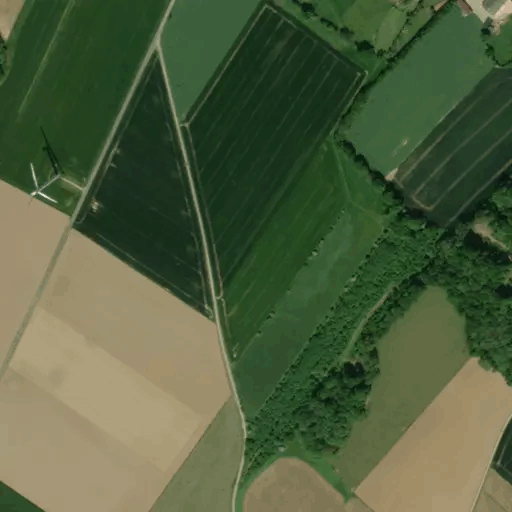wt: (17, 118, 106, 214)
